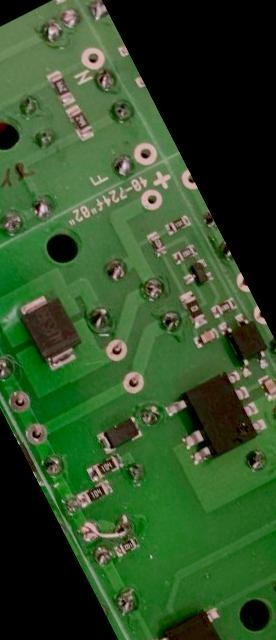chip-capacitor: (188, 323, 220, 349), (254, 370, 276, 401)
chip-resistor: (176, 287, 210, 330), (73, 476, 115, 509), (44, 66, 77, 108), (83, 451, 125, 483), (63, 100, 95, 142), (142, 227, 169, 259), (110, 534, 141, 559), (169, 241, 200, 265), (161, 212, 192, 236), (208, 294, 238, 318)
diode: (14, 286, 89, 374), (93, 413, 145, 455)
ic: (159, 365, 270, 470), (215, 306, 276, 379)
transistor: (177, 254, 216, 292)
